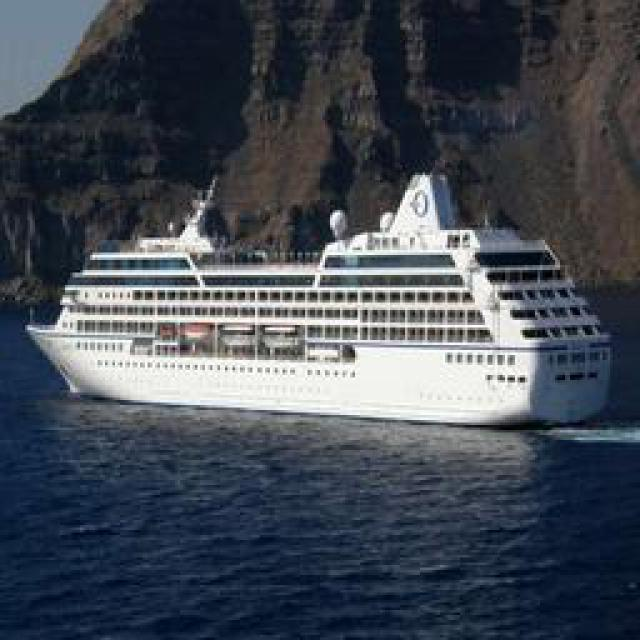Ship: (43, 195, 611, 433)
